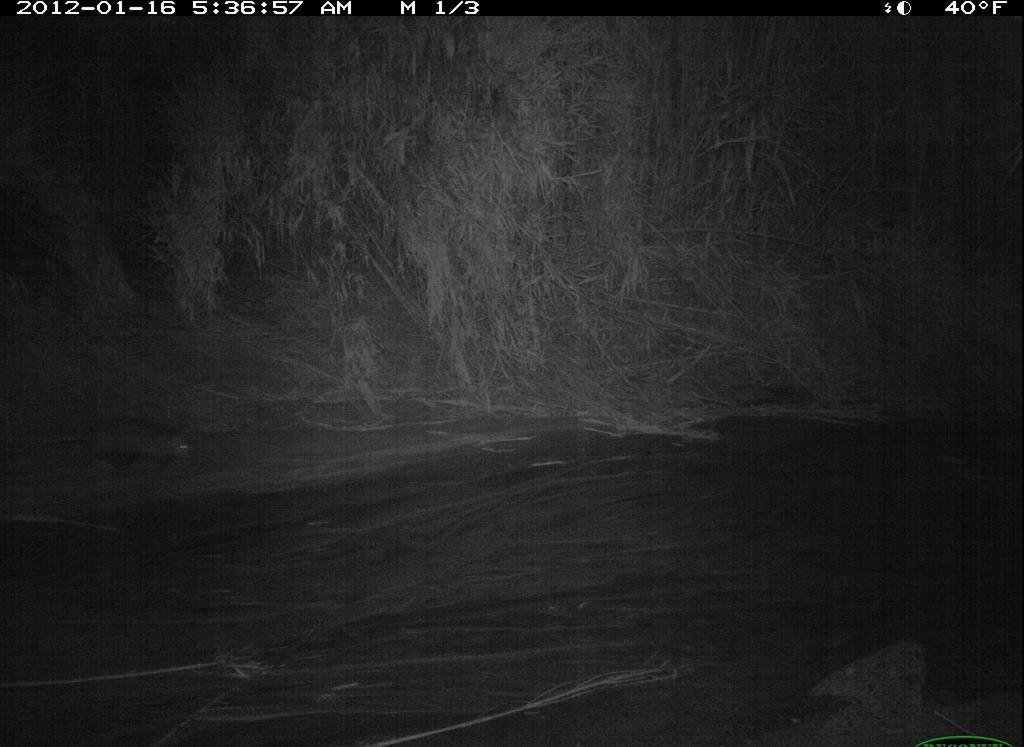opossum: (26, 410, 205, 482)
